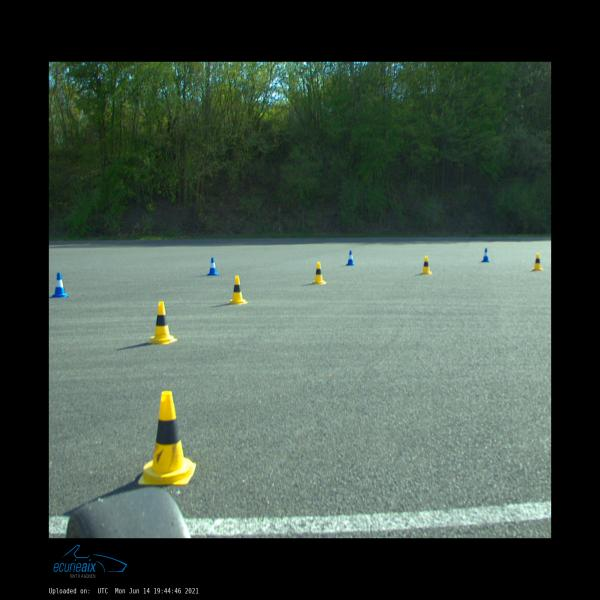blue_cone: (49, 272, 70, 298), (206, 257, 219, 276), (346, 250, 355, 266), (481, 248, 490, 262)
yellow_cone: (139, 391, 196, 485), (148, 301, 177, 344), (228, 276, 248, 304), (312, 262, 326, 284), (420, 256, 432, 274), (532, 254, 544, 270)
